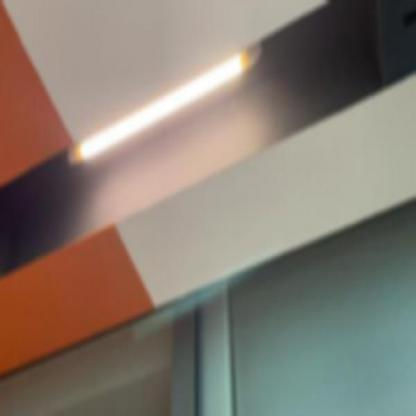light_on: (61, 29, 270, 190)
